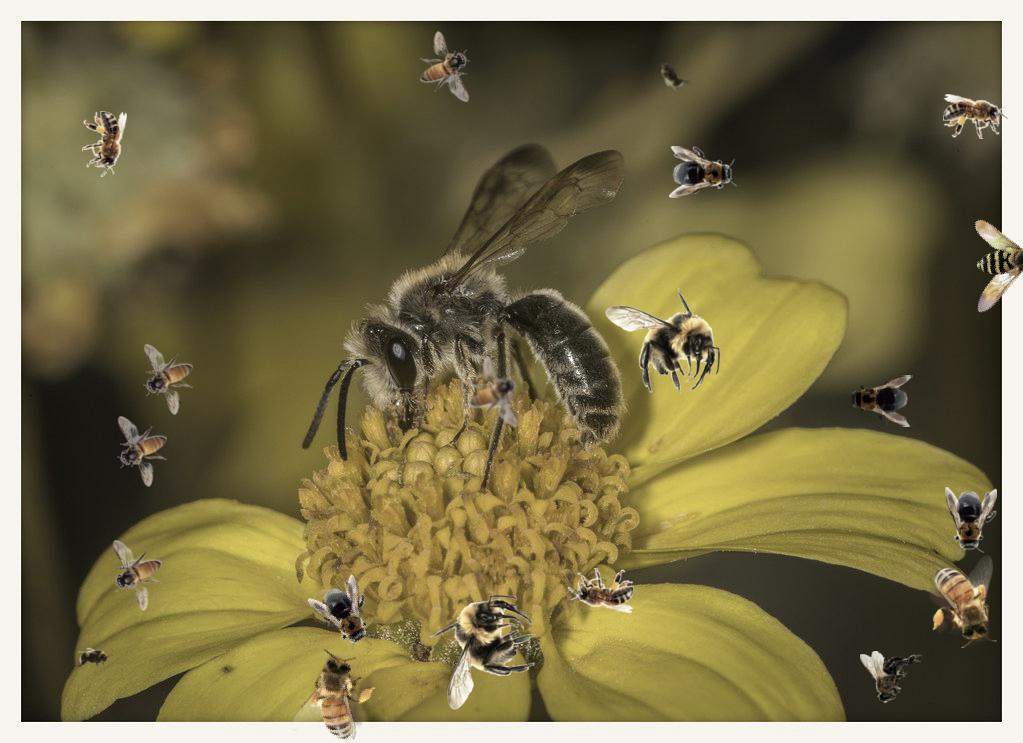Bee: (605, 287, 720, 394), (429, 595, 536, 710), (935, 210, 1023, 330), (285, 642, 387, 743), (306, 572, 388, 658), (929, 555, 997, 648), (420, 31, 470, 102), (469, 356, 519, 427), (112, 540, 162, 611), (117, 416, 167, 487), (143, 344, 193, 415), (945, 487, 997, 555), (669, 146, 737, 198), (845, 375, 913, 427), (860, 651, 922, 704), (943, 94, 1009, 139), (568, 568, 634, 613), (82, 111, 127, 177), (651, 52, 693, 98), (74, 647, 114, 669)
